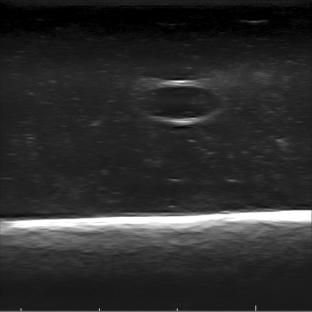vessel: (142, 80, 224, 125)
